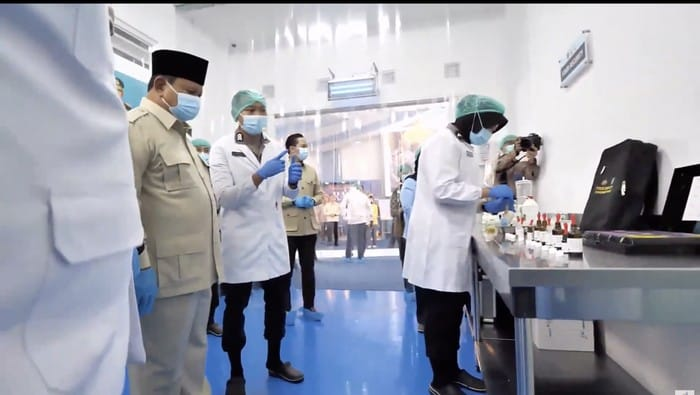cap: (432, 79, 518, 132), (132, 40, 216, 94), (212, 76, 283, 116)
